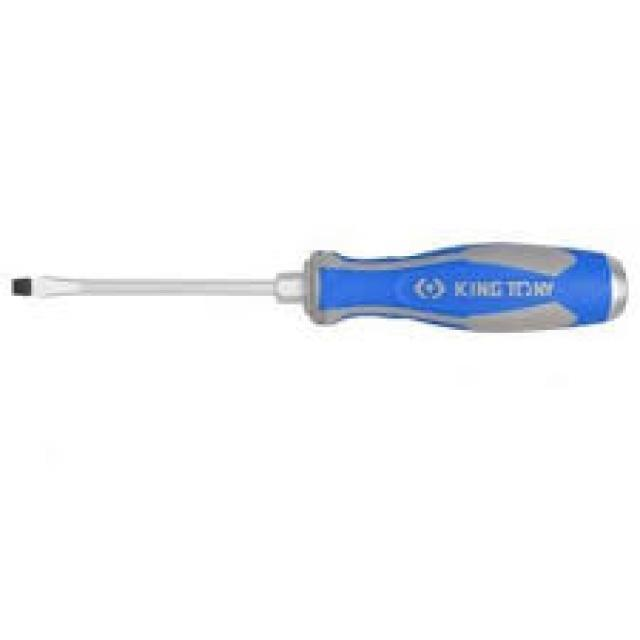screwdriver: (7, 242, 630, 336)
